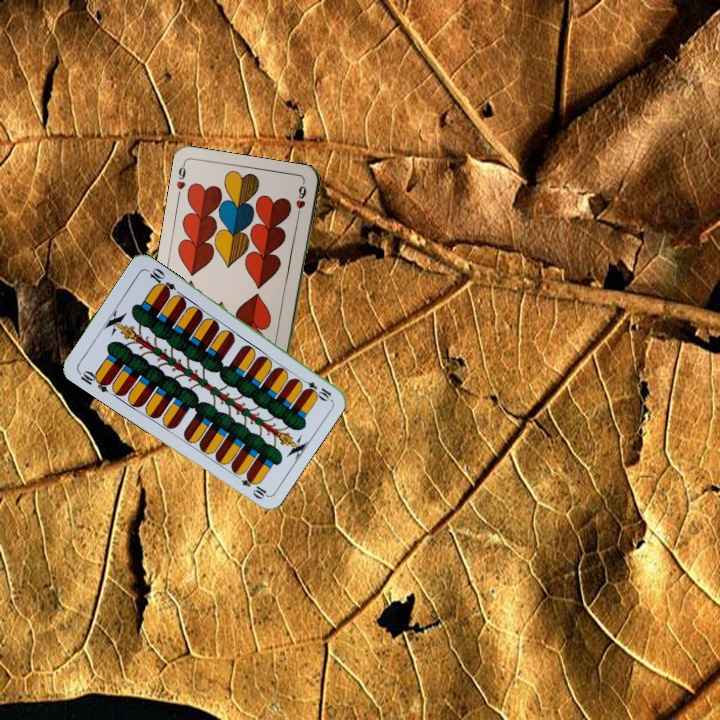E10: (74, 366, 113, 395), (296, 374, 334, 403)
H9: (172, 160, 188, 200)
